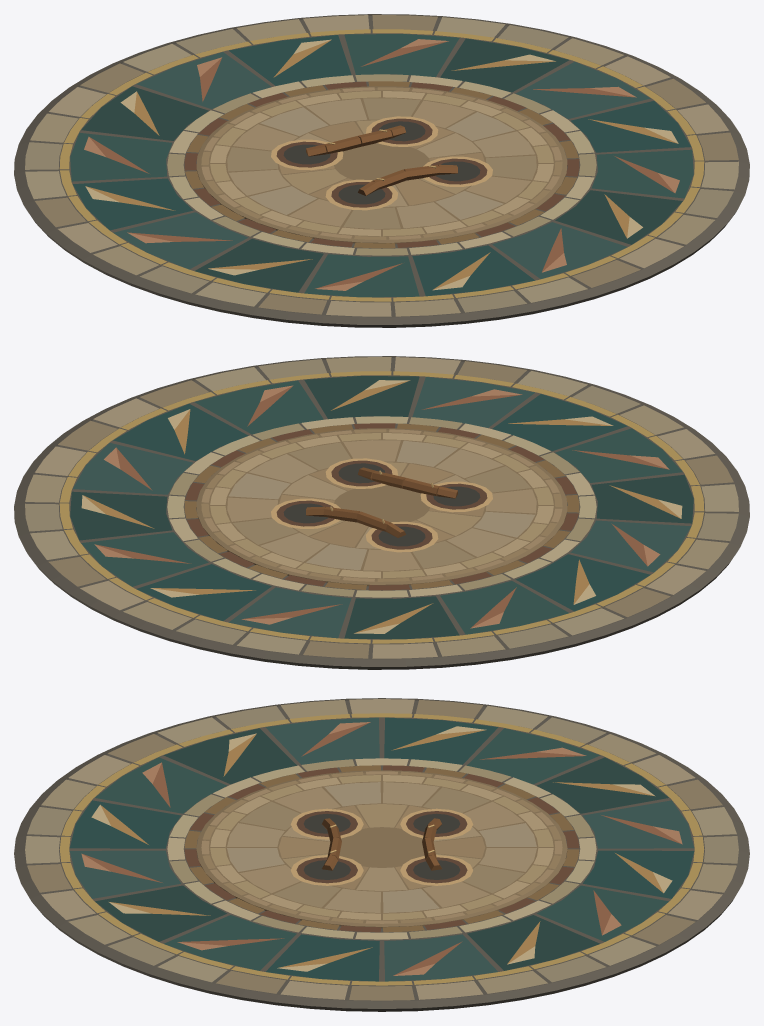
The model's file is button_paving.glb.
3 views of the same model, one above another, from view 1: azimuth 30°, elevation 25°; view 2: azimuth 150°, elevation 25°; view 3: azimuth 270°, elevation 25° (orthographic).
Parts seen in each view (by area): view 1: button_paving; view 2: button_paving; view 3: button_paving.
Boxes of the visible parts, x1,y1,x2,y2 form: button_paving: (14, 14, 749, 327); button_paving: (14, 356, 749, 669); button_paving: (14, 698, 749, 1011).
Bounding box in the file's own units: 3.2 × 0.1086 × 3.2.
